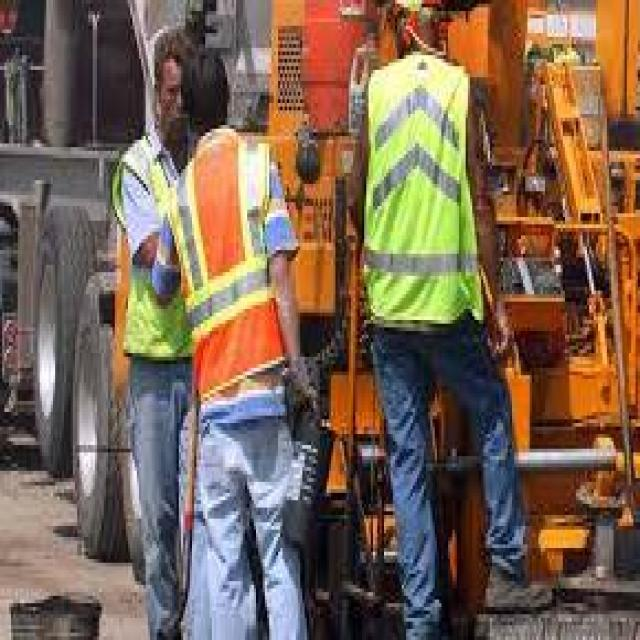Reflective-Jacket: (353, 55, 494, 350), (164, 129, 292, 423), (100, 121, 196, 379)
